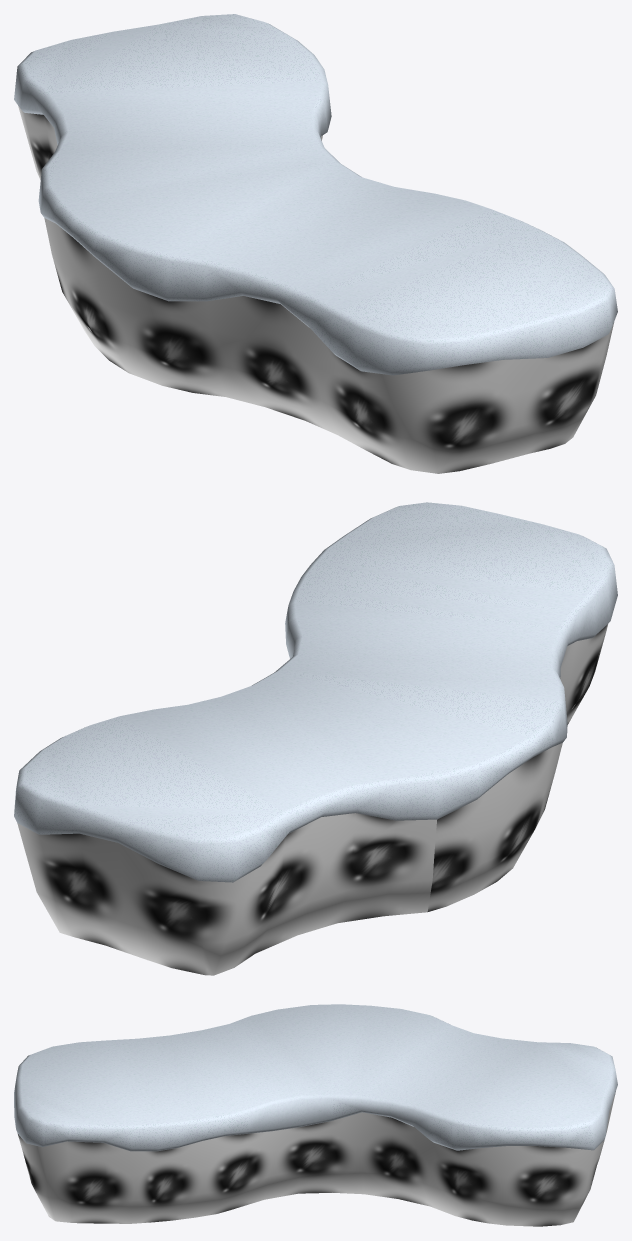
File: SnowBowlingStepB.fbx
3 views of the same model, one above another, from view 1: azimuth 30°, elevation 25°; view 2: azimuth 150°, elevation 25°; view 3: azimuth 270°, elevation 25° (orthographic). The views are drawn at different scales.
Parts seen in each view (by area): view 1: Plane.000, Plane.003; view 2: Plane.000, Plane.003; view 3: Plane.000, Plane.003.
Part boxes in pixels (left/top/right/bottom): Plane.000: left=14, top=14, right=617, bottom=375; Plane.003: left=18, top=106, right=614, bottom=473; Plane.000: left=14, top=502, right=617, bottom=882; Plane.003: left=17, top=624, right=607, bottom=975; Plane.000: left=14, top=1004, right=617, bottom=1151; Plane.003: left=18, top=1091, right=615, bottom=1226.
Bounding box in the file's own units: 160285 × 63534 × 316483.
